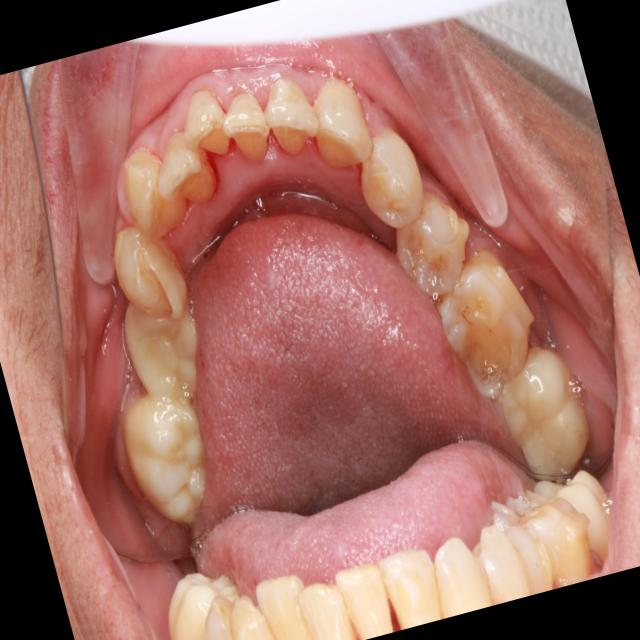tooth: (412, 231, 561, 415), (480, 324, 611, 499), (107, 375, 233, 540), (106, 277, 231, 428), (371, 169, 491, 318), (342, 110, 442, 248), (103, 208, 200, 337), (103, 127, 204, 250), (297, 60, 388, 186), (143, 116, 234, 227), (166, 71, 255, 183), (251, 57, 332, 174), (210, 74, 290, 183)
